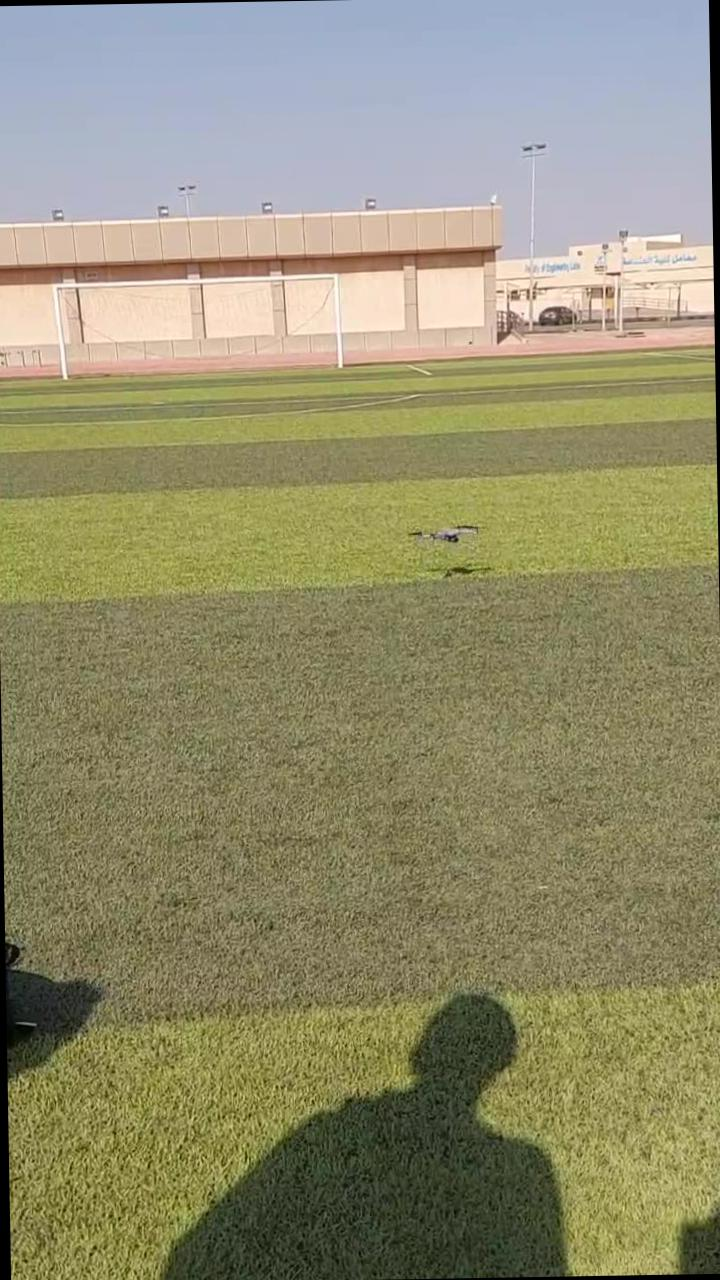drone: (396, 511, 484, 558)
